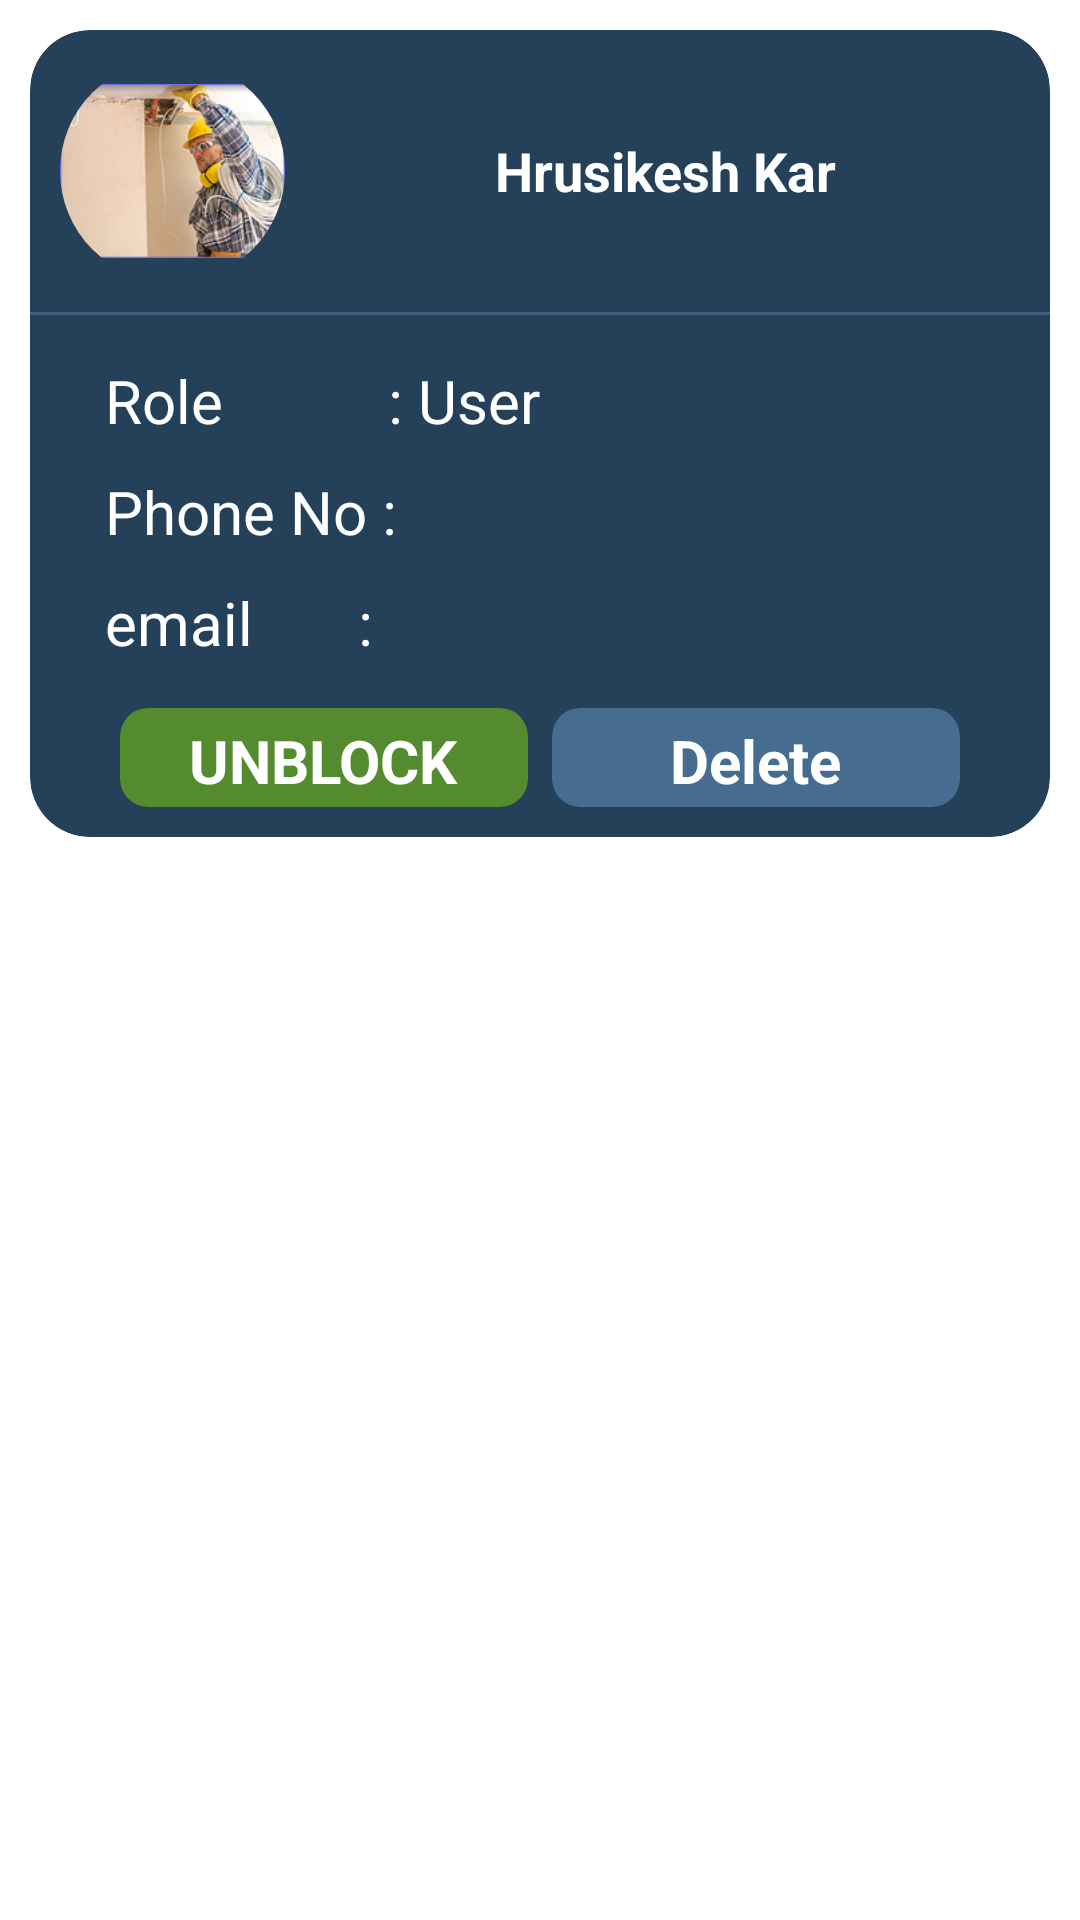

Named icons in this screenshot (1080px x 1920px) and their bounding boxes, box(x1, y1, x2, y2):
electrician: box(60, 84, 285, 258)
